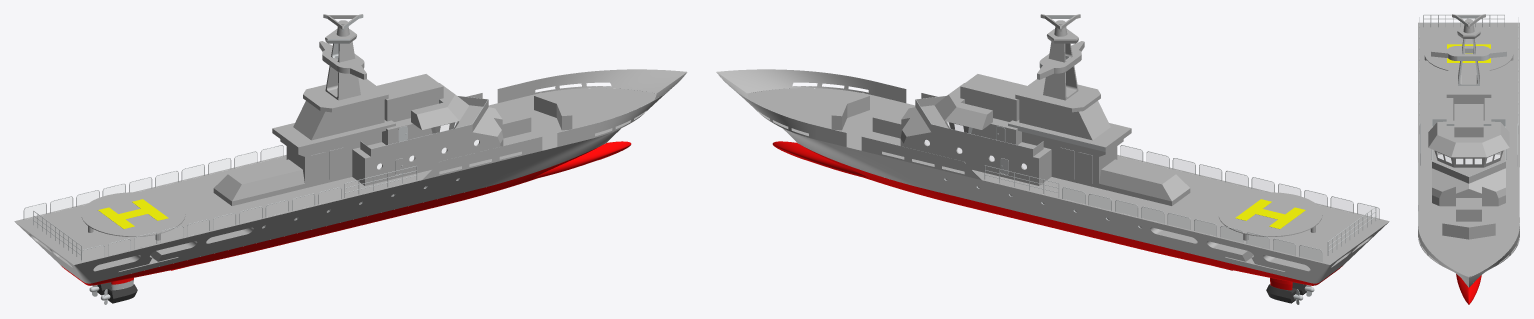
File: baquebo.glb
The picture shows the model from 3 angles, left to right: view 1: azimuth 30°, elevation 25°; view 2: azimuth 150°, elevation 25°; view 3: azimuth 270°, elevation 25°; orthographic projection. The views are drawn at different scales.
Visible parts, largest first — view 1: baquebo (2); view 2: baquebo (2); view 3: baquebo (2).
Part boxes in pixels (x1,y1,x2,y2): baquebo (2): [14, 14, 687, 304]; baquebo (2): [716, 14, 1389, 304]; baquebo (2): [1418, 14, 1519, 304].
Bounding box in the file's own units: 85.6 × 28.26 × 13.8.
